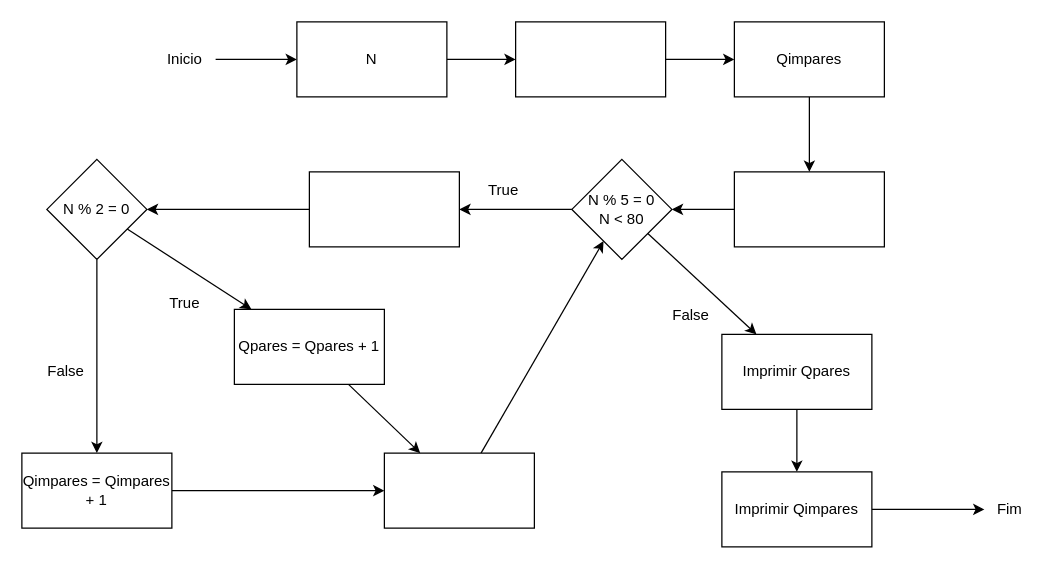
The diagram is 1056 pixels wide and 569 high, and some of its shapes have lost their labels. The centre of each missing label's shape, as x and y in pixels:
Imprimir N: point 383,209
N = 20: point 808,209
N = N + 1: point 458,490
Qpares: point 590,59
